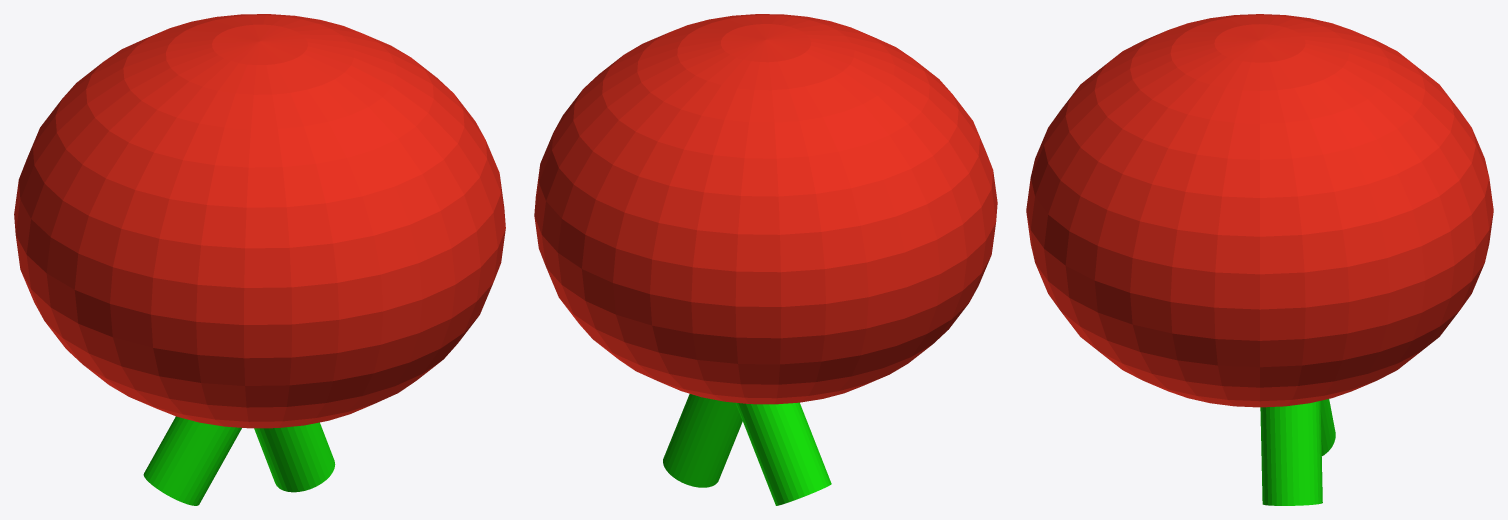
File: tomato.fbx
3 views of the same model, side by side, from view 1: azimuth 30°, elevation 25°; view 2: azimuth 150°, elevation 25°; view 3: azimuth 270°, elevation 25° (orthographic). The views are drawn at different scales.
Parts seen in each view (by area): view 1: Sphere.001, Cylinder.008, Cylinder.007; view 2: Sphere.001, Cylinder.008, Cylinder.007; view 3: Sphere.001, Cylinder.007, Cylinder.008.
Boxes of the visible parts, x1,y1,x2,y2 form: Sphere.001: (14, 14, 505, 428); Cylinder.008: (143, 416, 241, 505); Cylinder.007: (254, 422, 335, 492); Sphere.001: (534, 14, 997, 404); Cylinder.008: (735, 402, 831, 505); Cylinder.007: (663, 394, 742, 487); Sphere.001: (1026, 14, 1493, 407); Cylinder.007: (1260, 401, 1322, 505); Cylinder.008: (1320, 399, 1335, 456).
Size of the model in its own units: 10 by 10.49 by 10.
